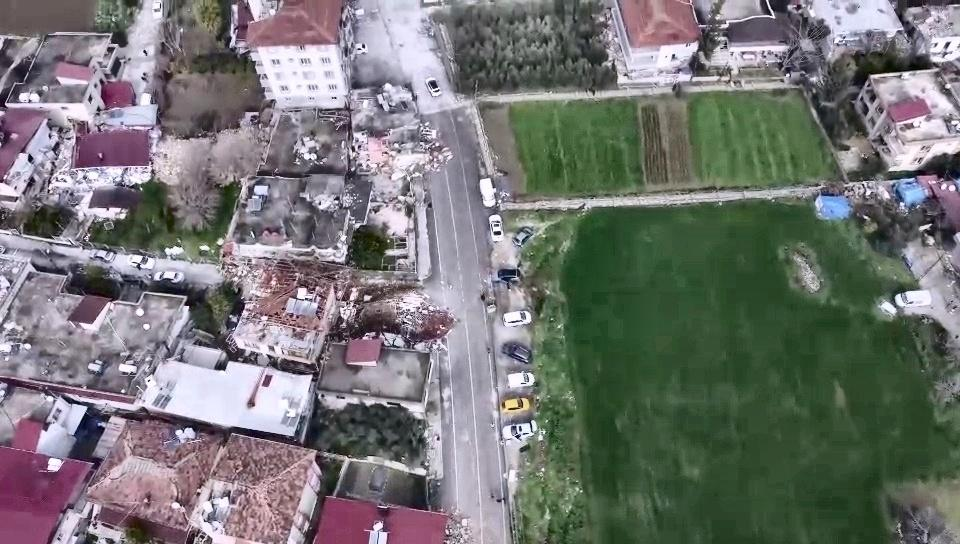kapali: (193, 262, 470, 326)
